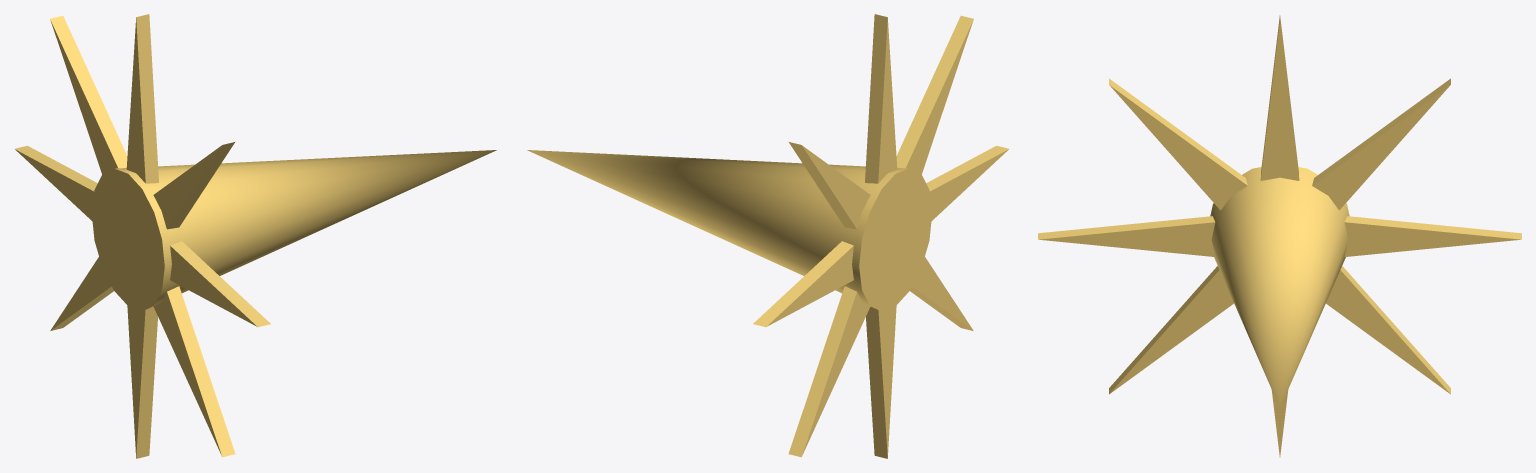
Rendered from clarao.obj.
3 renders of one model, left to right at view 1: azimuth 30°, elevation 25°; view 2: azimuth 150°, elevation 25°; view 3: azimuth 270°, elevation 25°, orthographic.
Bounding box in the file's own units: 0.112 × 0.128 × 0.128.
